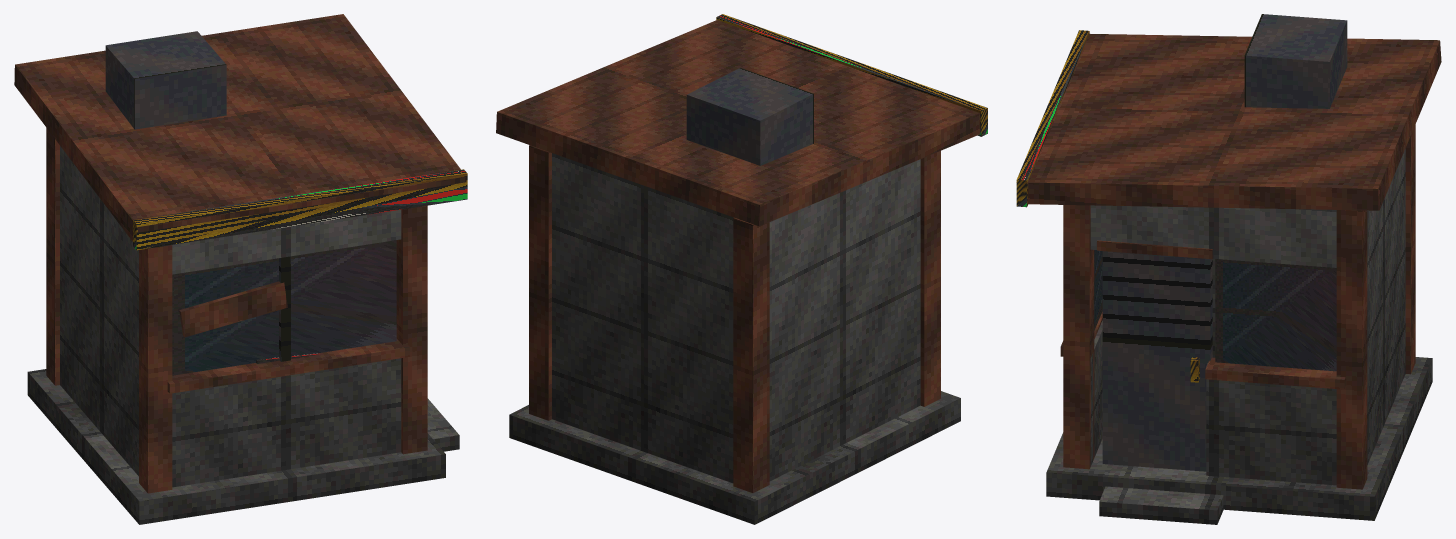
The model's file is etip_guarita.obj.
3 renders of one model, left to right at view 1: azimuth 30°, elevation 25°; view 2: azimuth 150°, elevation 25°; view 3: azimuth 270°, elevation 25°, orthographic. The views are drawn at different scales.
Parts seen in each view (by area): view 1: PS2_Mat_Metal_Ferrugem_Group, PS2_Mat_Concreto_Bruto_Group, PS2_Mat_VidroGuarita_Group, PS2_Mat_AcoEscuro_Group, PS2_Mat_Advertencia_Group; view 2: PS2_Mat_Concreto_Bruto_Group, PS2_Mat_Metal_Ferrugem_Group, PS2_Mat_AcoEscuro_Group, PS2_Mat_Advertencia_Group; view 3: PS2_Mat_Metal_Ferrugem_Group, PS2_Mat_Concreto_Bruto_Group, PS2_Mat_AcoEscuro_Group, PS2_Mat_VidroGuarita_Group, PS2_Mat_Advertencia_Group.
Part boxes in pixels (bbox=[...]): PS2_Mat_Metal_Ferrugem_Group: bbox=[14, 14, 466, 493]; PS2_Mat_Concreto_Bruto_Group: bbox=[27, 146, 459, 524]; PS2_Mat_VidroGuarita_Group: bbox=[172, 240, 396, 375]; PS2_Mat_AcoEscuro_Group: bbox=[105, 31, 290, 361]; PS2_Mat_Advertencia_Group: bbox=[133, 169, 467, 363]; PS2_Mat_Concreto_Bruto_Group: bbox=[509, 153, 960, 524]; PS2_Mat_Metal_Ferrugem_Group: bbox=[496, 20, 980, 492]; PS2_Mat_AcoEscuro_Group: bbox=[686, 68, 813, 165]; PS2_Mat_Advertencia_Group: bbox=[716, 14, 987, 136]; PS2_Mat_Metal_Ferrugem_Group: bbox=[1027, 33, 1441, 489]; PS2_Mat_Concreto_Bruto_Group: bbox=[1046, 148, 1432, 524]; PS2_Mat_AcoEscuro_Group: bbox=[1102, 14, 1347, 471]; PS2_Mat_VidroGuarita_Group: bbox=[1094, 250, 1336, 371]; PS2_Mat_Advertencia_Group: bbox=[1016, 30, 1199, 382].
Size of the model in its own units: 3.13 by 3.14 by 3.19.
Materials: 5 (5 with a texture image).
